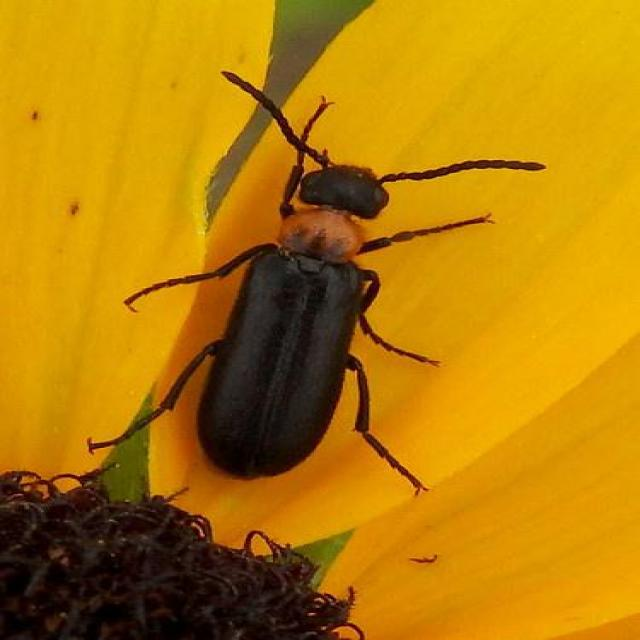BlisterBeetle-Adult-: (80, 62, 548, 496)
